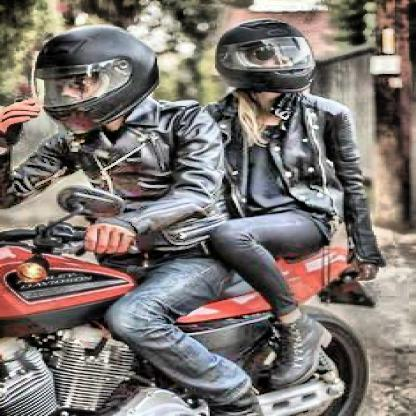wear: (36, 26, 150, 128), (216, 17, 315, 94)
